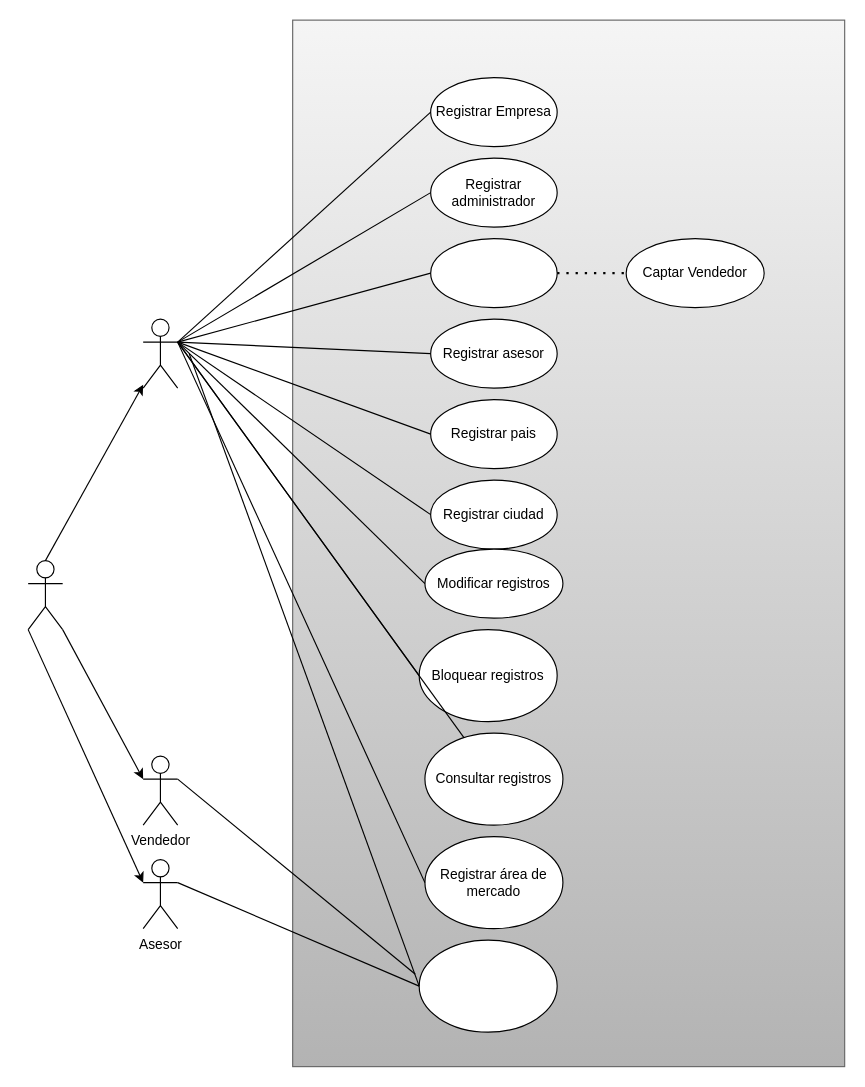
Image size: 865x1087. Some labels were removed from this diagram. The shapes that lost their labels are listed below. From the top down, each one's box as (x1, y1, x2, y2) in pixels, then its label:
(430, 237, 557, 308): Registrar vendedor
(142, 318, 178, 388): Administrador
(27, 559, 63, 630): Actor
(418, 939, 557, 1032): Consultar datos propios
